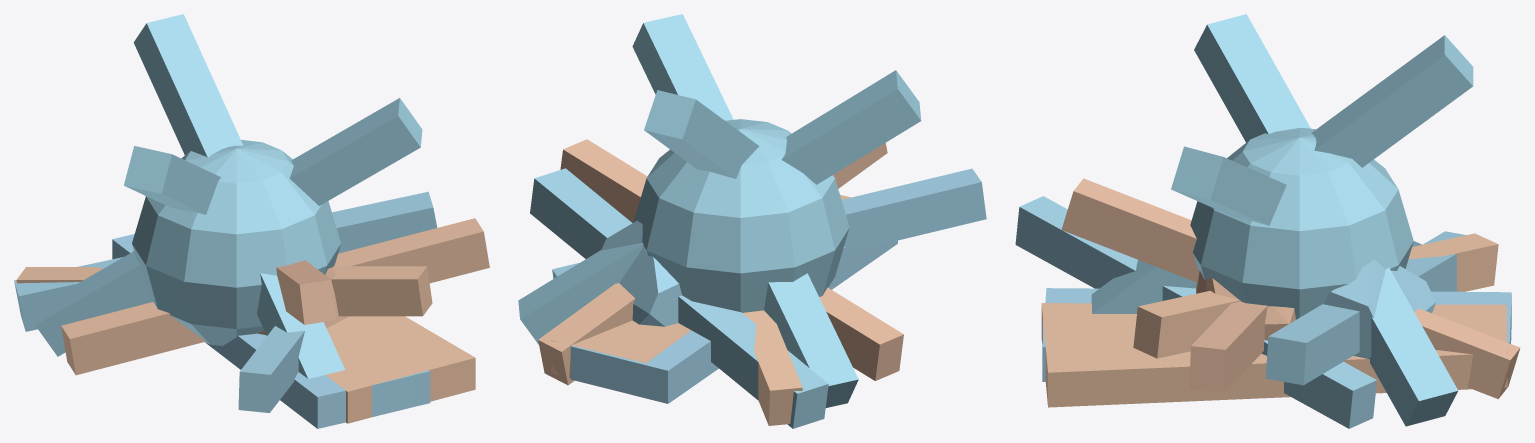
Rendered from tanktrap.glb.
3 renders of one model, left to right at view 1: azimuth 30°, elevation 25°; view 2: azimuth 150°, elevation 25°; view 3: azimuth 270°, elevation 25°, orthographic. The views are drawn at different scales.
Visible parts, largest first — view 1: S5|SM_TankTrap_Stage5#0, S2|SM_TankTrap_Stage2#0, S4|SM_TankTrap_Stage4#0, S3|SM_TankTrap_Stage3#0, S1|SM_TankTrap_Stage1#0; view 2: S5|SM_TankTrap_Stage5#0, S3|SM_TankTrap_Stage3#0, S4|SM_TankTrap_Stage4#0, S1|SM_TankTrap_Stage1#0, S2|SM_TankTrap_Stage2#0; view 3: S5|SM_TankTrap_Stage5#0, S2|SM_TankTrap_Stage2#0, S3|SM_TankTrap_Stage3#0, S4|SM_TankTrap_Stage4#0, S1|SM_TankTrap_Stage1#0.
Part boxes in pixels (x1=…): S5|SM_TankTrap_Stage5#0: x1=35, y1=14, x2=422, y2=378; S2|SM_TankTrap_Stage2#0: x1=16, y1=266, x2=475, y2=423; S4|SM_TankTrap_Stage4#0: x1=61, y1=218, x2=489, y2=375; S3|SM_TankTrap_Stage3#0: x1=14, y1=191, x2=437, y2=417; S1|SM_TankTrap_Stage1#0: x1=112, y1=234, x2=430, y2=428; S5|SM_TankTrap_Stage5#0: x1=518, y1=14, x2=921, y2=407; S3|SM_TankTrap_Stage3#0: x1=530, y1=168, x2=986, y2=428; S4|SM_TankTrap_Stage4#0: x1=538, y1=139, x2=903, y2=385; S1|SM_TankTrap_Stage1#0: x1=570, y1=240, x2=897, y2=403; S2|SM_TankTrap_Stage2#0: x1=551, y1=195, x2=851, y2=425; S5|SM_TankTrap_Stage5#0: x1=1091, y1=14, x2=1473, y2=426; S2|SM_TankTrap_Stage2#0: x1=1041, y1=233, x2=1507, y2=407; S3|SM_TankTrap_Stage3#0: x1=1015, y1=196, x2=1505, y2=428; S4|SM_TankTrap_Stage4#0: x1=1061, y1=178, x2=1520, y2=399; S1|SM_TankTrap_Stage1#0: x1=1042, y1=288, x2=1511, y2=381.
Bounding box in the file's own units: 2.77 × 2.02 × 2.99.
